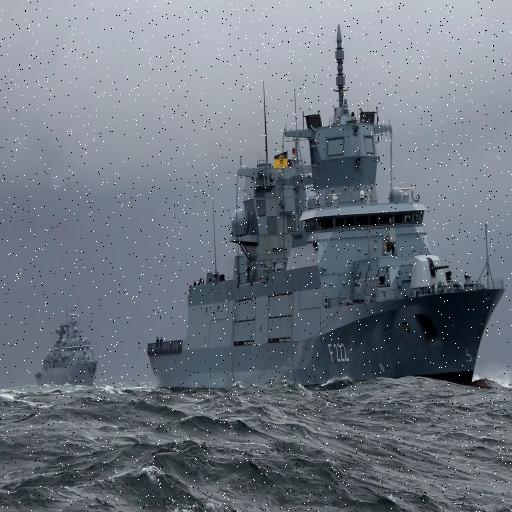Fragata: (1, 21, 325, 405), (33, 299, 105, 393)
